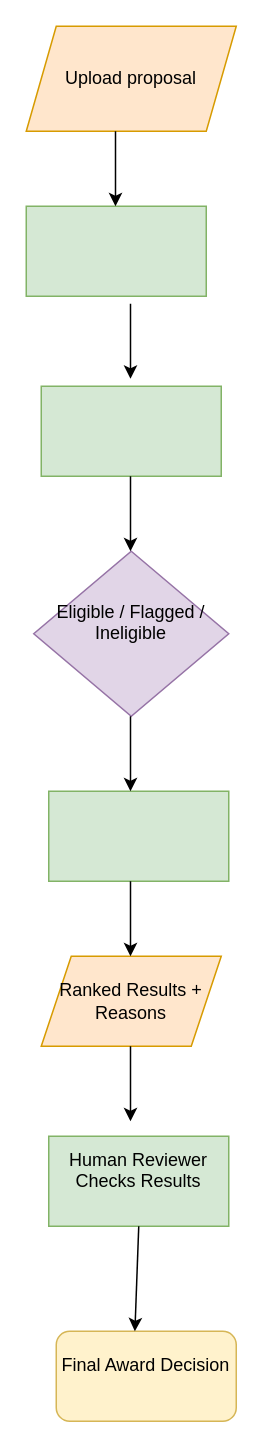
The diagram is 263 pixels wide and 1448 high, and some of its shapes have lost their labels. The shapes that lost their labels are listed below. From the top down, each one's centre as x and y in pixels, then its label:
At point 115,250: "AI Extracts information".
At point 130,430: "Python Validates Mandatory Criteria".
At point 138,835: "Python Calculates Scores".
